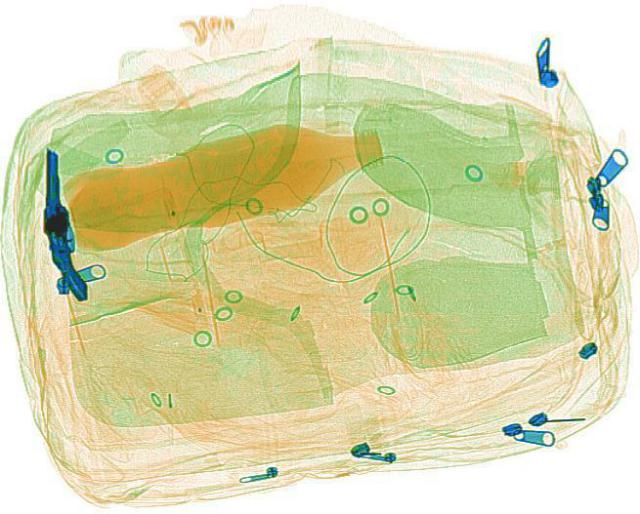Gun: (35, 146, 85, 304)
